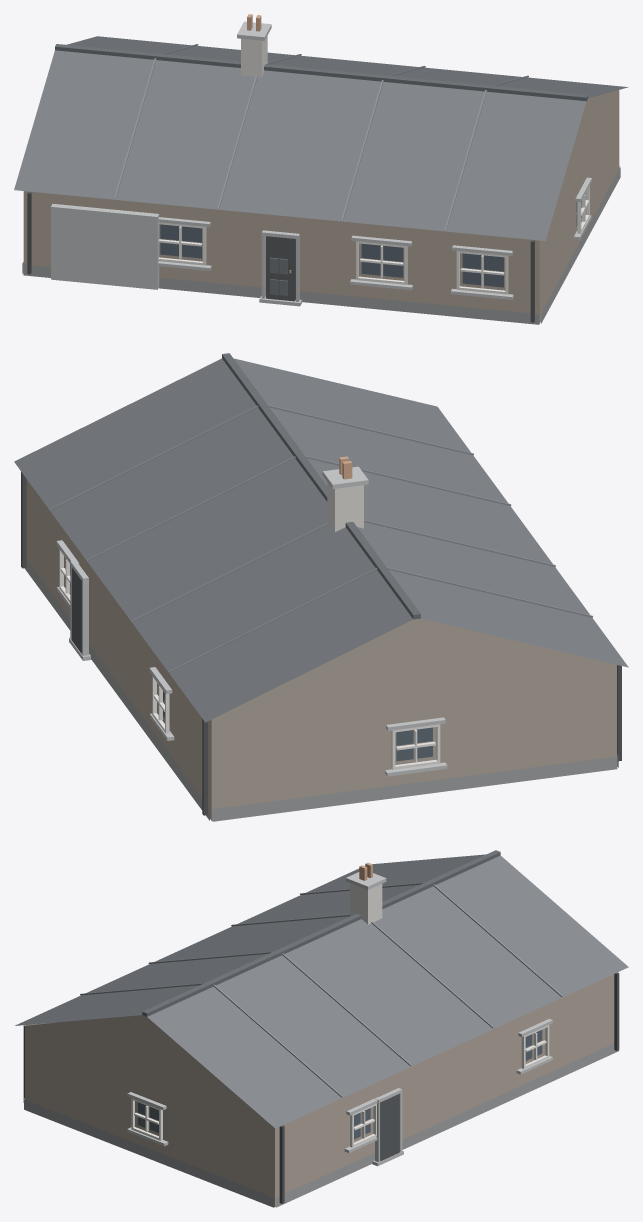
The picture shows the model from 3 angles, top to bottom: view 1: azimuth 30°, elevation 25°; view 2: azimuth 150°, elevation 25°; view 3: azimuth 270°, elevation 25°; orthographic projection. The views are drawn at different scales.
Parts seen in each view (by area): view 1: slate, harl_brown, stone_band, plinth, slate_dk, frame, slate_lt, door_dark, chim_render, pipe, door_dark_p; view 2: slate, harl_brown, plinth, slate_lt, stone_band, slate_dk, frame, pipe, chim_render, door_dark; view 3: slate, harl_brown, plinth, slate_lt, slate_dk, stone_band, frame, door_dark, chim_render, pipe.
Part boxes in pixels (x1,y1,x2,y2): slate: (14, 36, 628, 240); harl_brown: (23, 90, 619, 323); stone_band: (51, 21, 591, 306); plinth: (22, 166, 620, 324); slate_dk: (55, 44, 587, 101); frame: (158, 185, 589, 294); slate_lt: (114, 44, 528, 230); door_dark: (266, 236, 295, 301); chim_render: (241, 36, 267, 77); pipe: (27, 192, 534, 322); door_dark_p: (270, 257, 287, 295); slate: (14, 358, 628, 722); harl_brown: (26, 479, 616, 820); plinth: (25, 559, 618, 821); slate_lt: (50, 405, 592, 672); stone_band: (56, 466, 447, 776); slate_dk: (222, 353, 420, 619); frame: (59, 549, 440, 769); pipe: (21, 471, 621, 815); chim_render: (327, 482, 363, 531); door_dark: (71, 567, 81, 653); slate: (15, 854, 628, 1128); harl_brown: (25, 974, 614, 1207); plinth: (24, 1043, 618, 1207); slate_lt: (80, 882, 562, 1097); slate_dk: (142, 850, 500, 1016); stone_band: (127, 872, 552, 1166); frame: (131, 1025, 549, 1147); door_dark: (380, 1094, 399, 1160); chim_render: (350, 883, 382, 924); pipe: (23, 972, 619, 1203).
Bounding box in the file's own units: 19.37 × 6.67 × 19.06.
